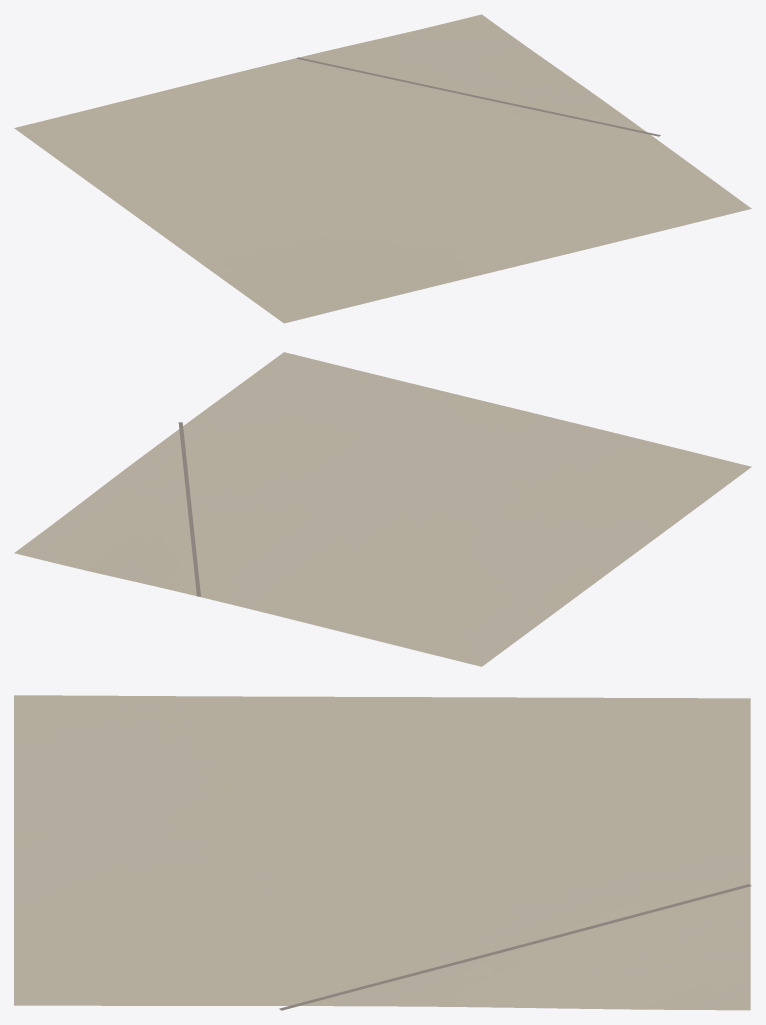
The model's file is bolak_20_-6.glb.
The picture shows the model from 3 angles, top to bottom: view 1: azimuth 30°, elevation 25°; view 2: azimuth 150°, elevation 25°; view 3: azimuth 270°, elevation 25°; orthographic projection. The views are drawn at different scales.
Visible parts, largest first — view 1: Yer_Tuproq-col, Temir_Yol; view 2: Yer_Tuproq-col, Temir_Yol; view 3: Yer_Tuproq-col, Temir_Yol.
Boxes of the visible parts, left/top/right/bottom form: Yer_Tuproq-col: left=14, top=14, right=751, bottom=323; Temir_Yol: left=296, top=57, right=660, bottom=136; Yer_Tuproq-col: left=14, top=352, right=751, bottom=666; Temir_Yol: left=178, top=422, right=200, bottom=596; Yer_Tuproq-col: left=14, top=695, right=750, bottom=1010; Temir_Yol: left=279, top=884, right=751, bottom=1010.
Bounding box in the file's own units: 406 × 2.78 × 401.
